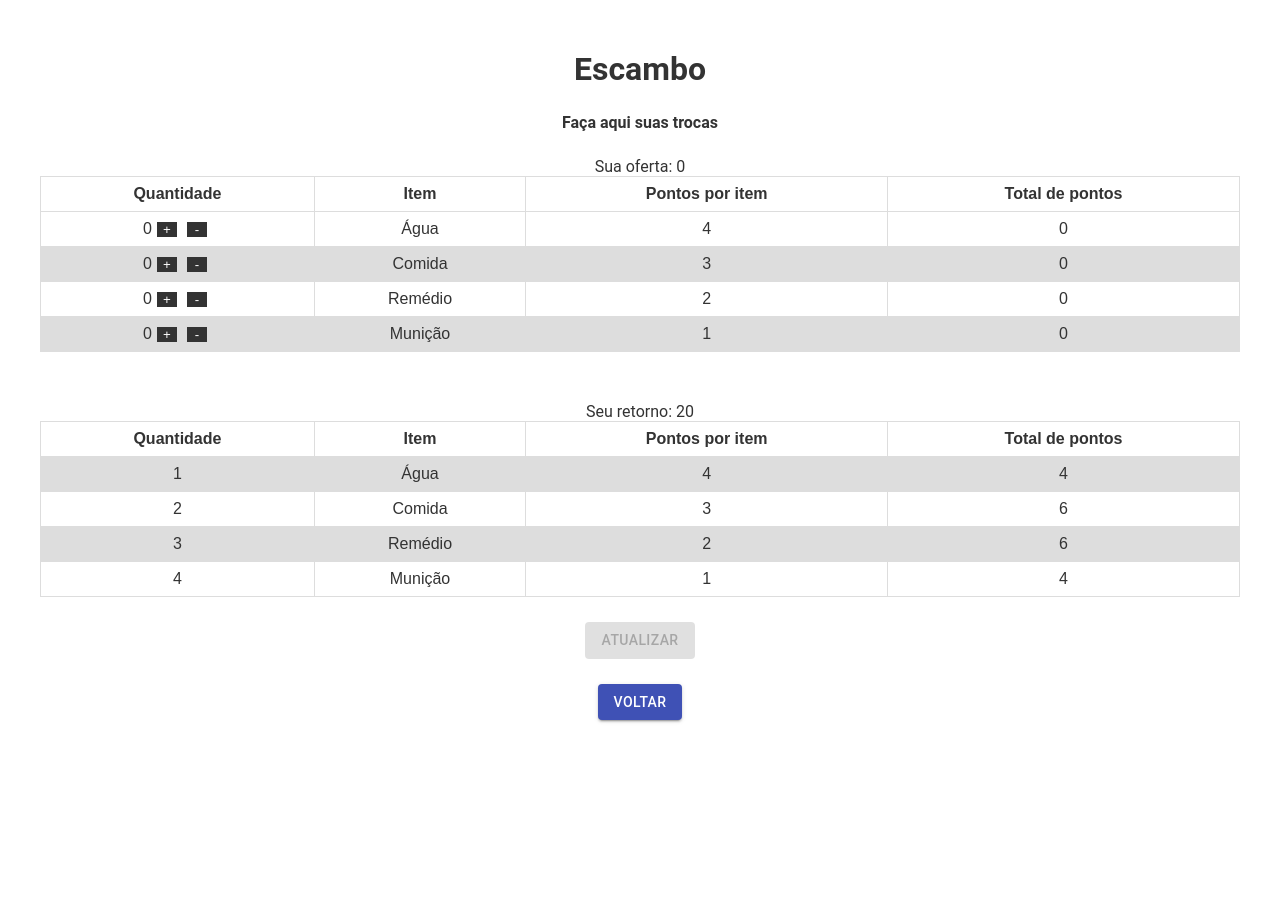
Test: <Trade /> › clears input when updated
The image size is (1280, 900).
Click the button named "aguaIncButton": x=167, y=230 top-left (157, 222), bottom-right (177, 237)
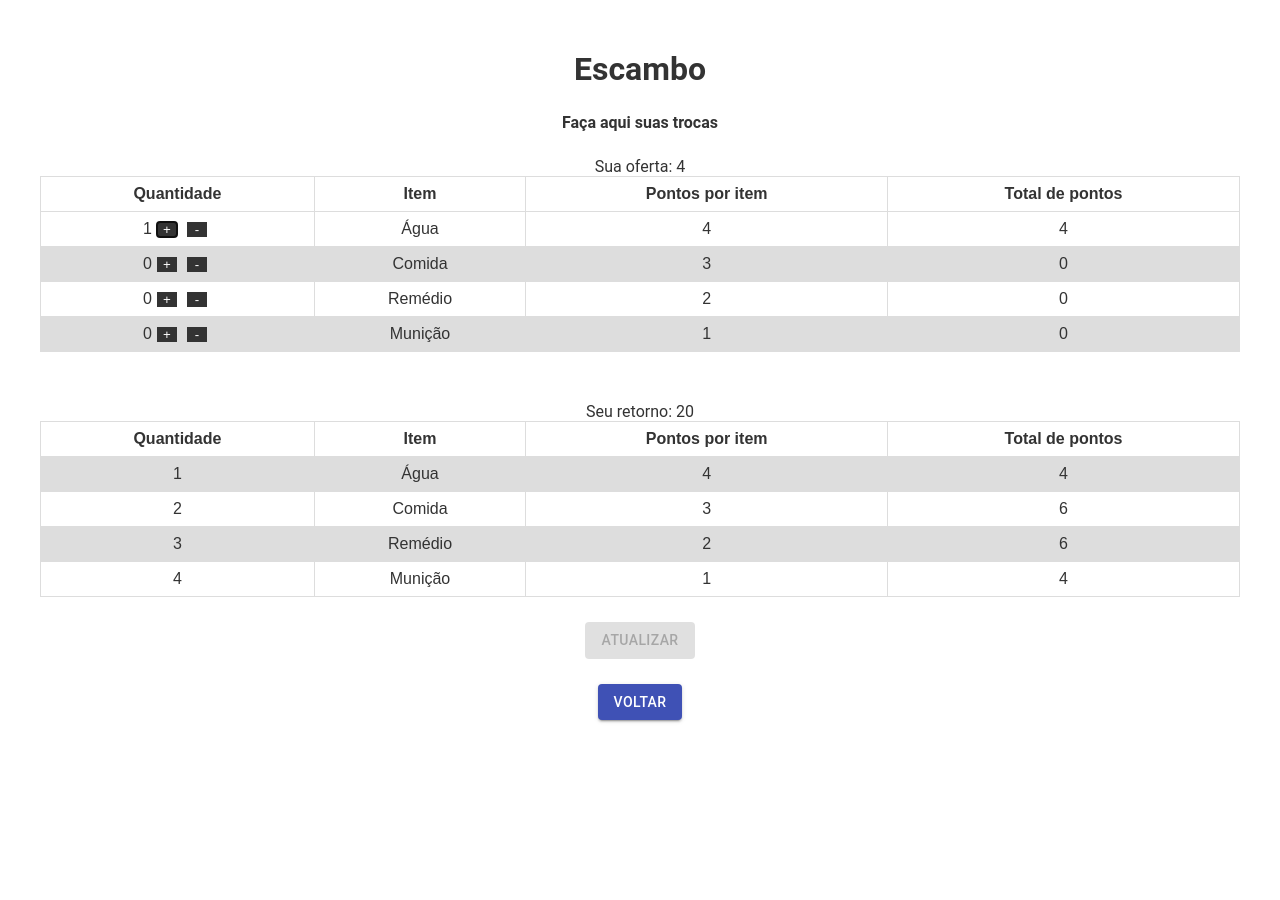
Click the button named "aguaIncButton": x=167, y=230 top-left (157, 222), bottom-right (177, 237)
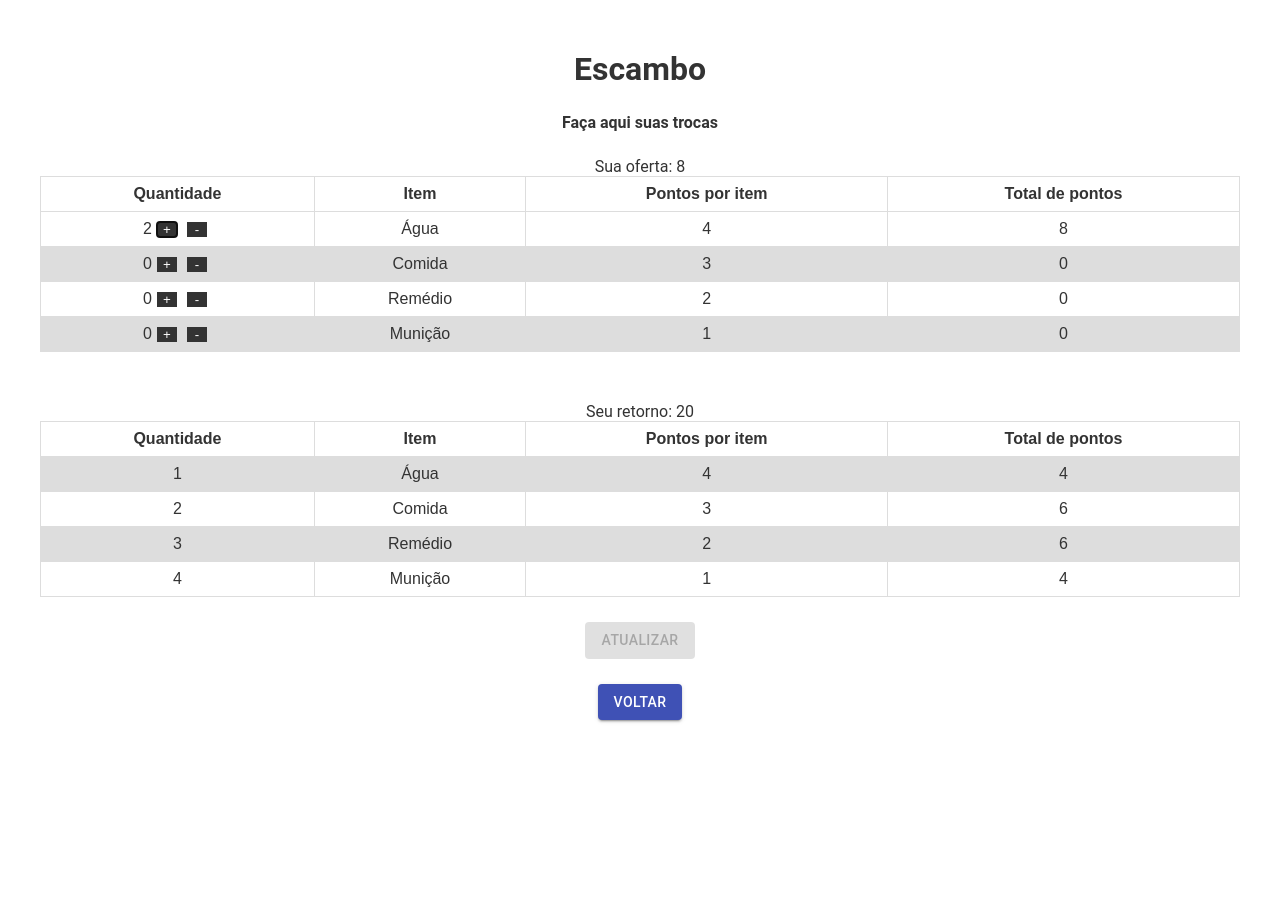
Click the button named "aguaIncButton": x=167, y=230 top-left (157, 222), bottom-right (177, 237)
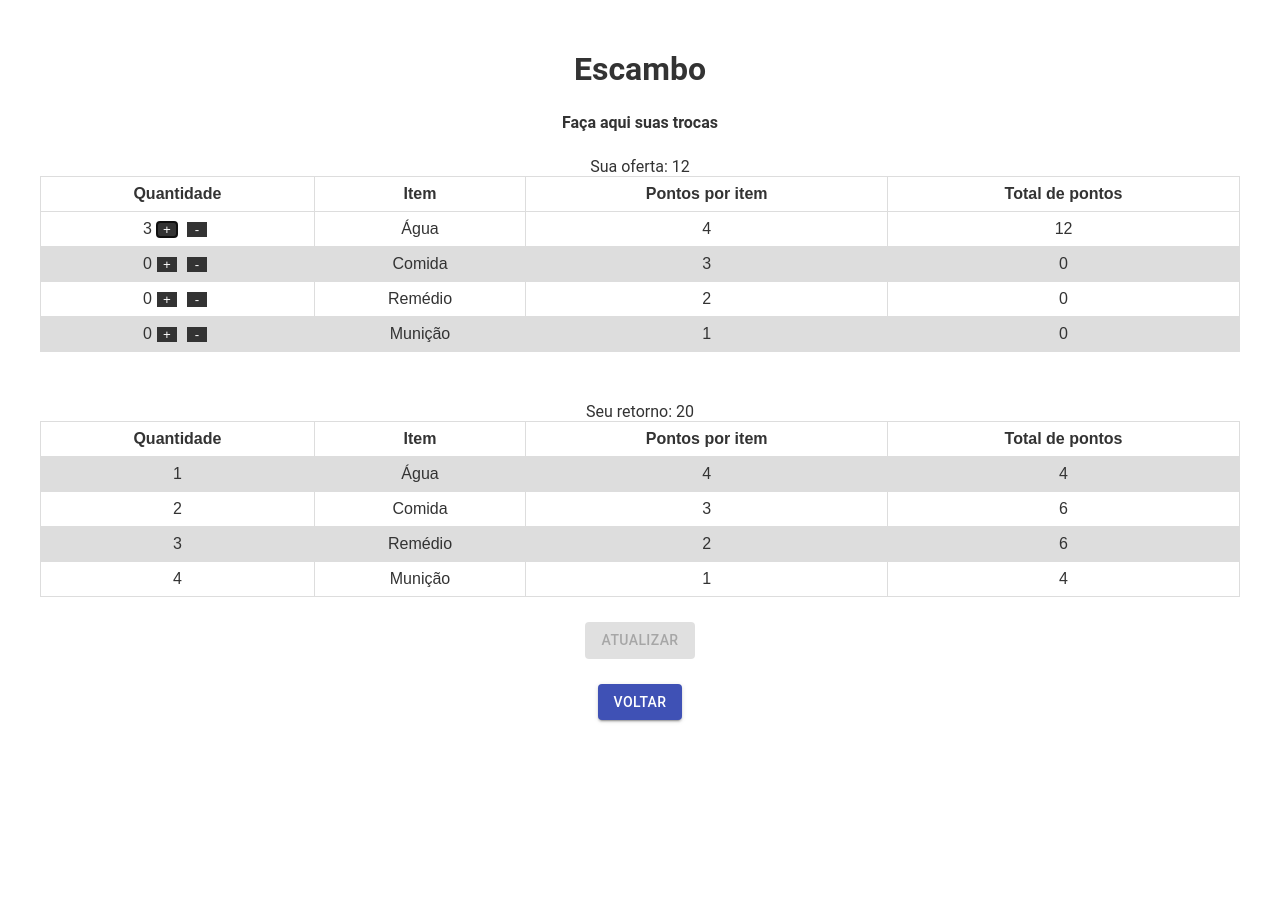
Click the button named "aguaIncButton": x=167, y=230 top-left (157, 222), bottom-right (177, 237)
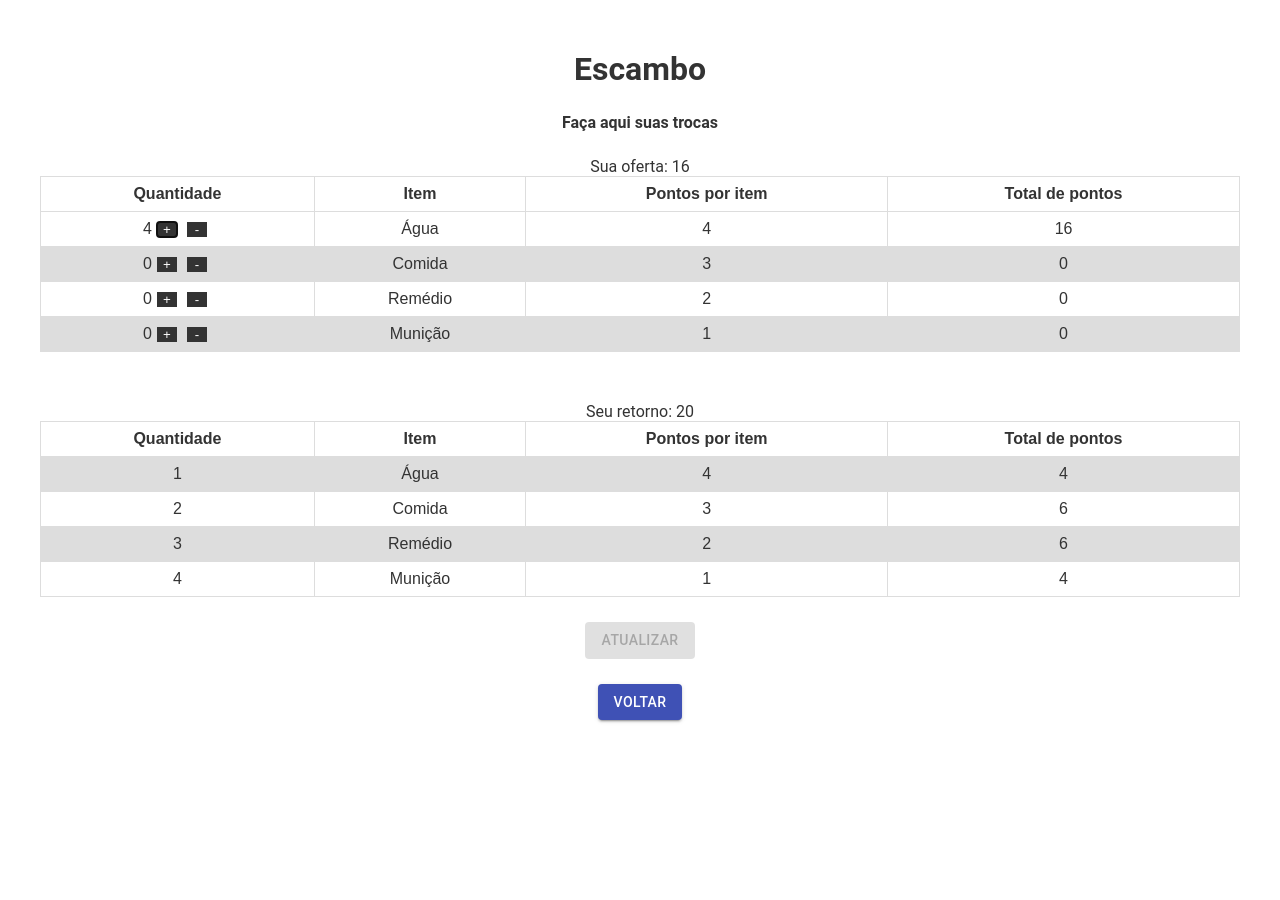
Click the button named "aguaIncButton": x=167, y=230 top-left (157, 222), bottom-right (177, 237)
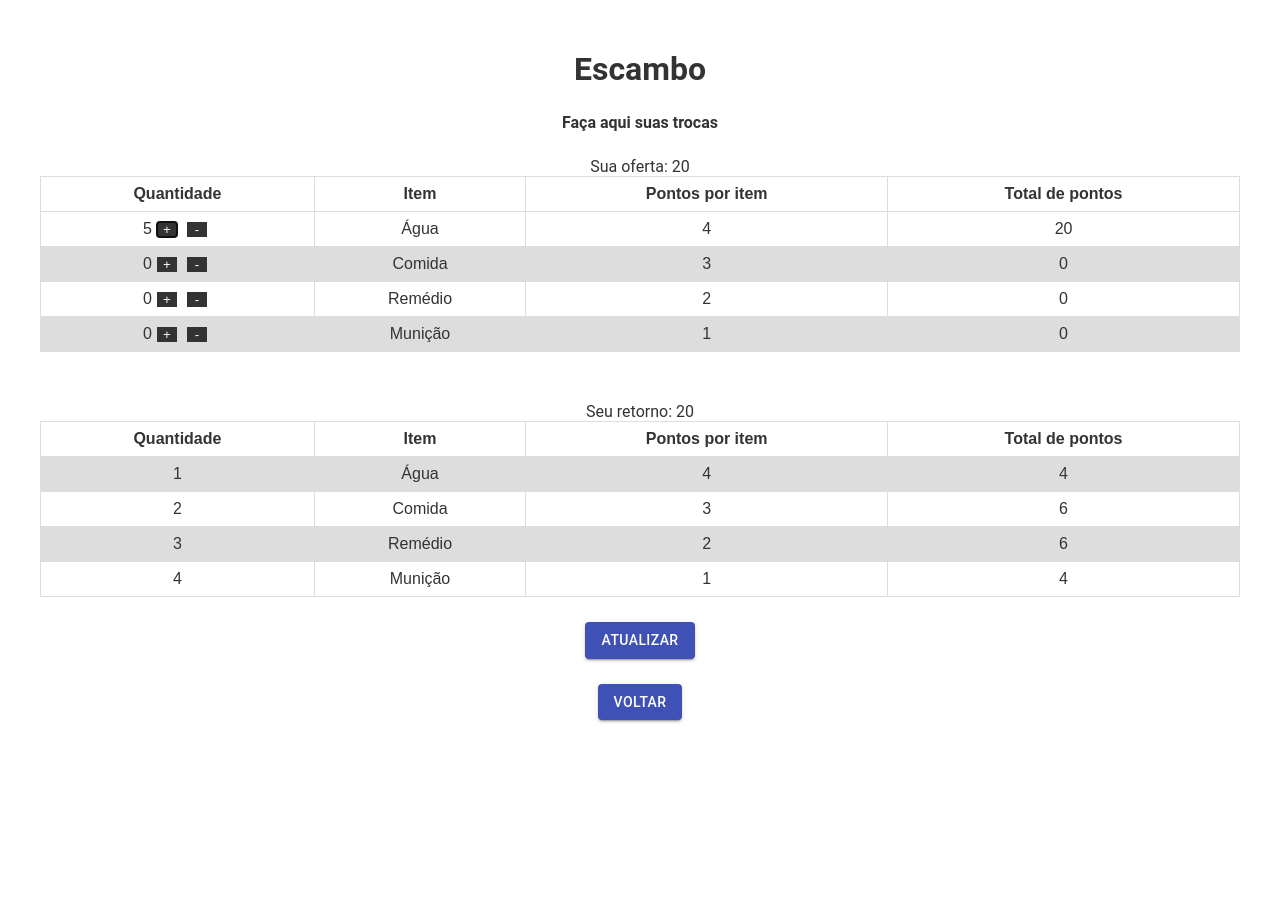
Click the button "Atualizar": x=640, y=640 top-left (586, 622), bottom-right (694, 658)
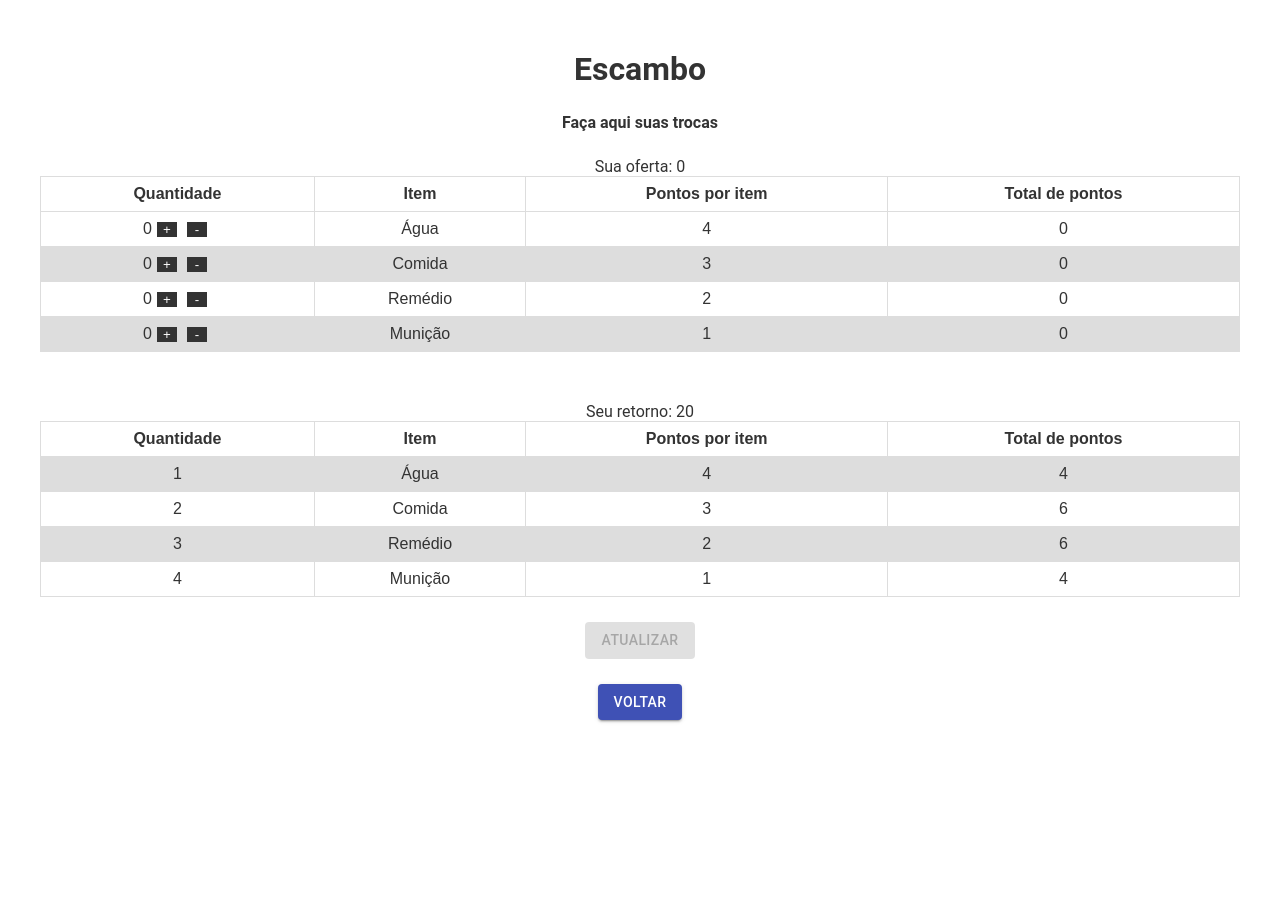
Result: the text "Sua oferta: 0" is shown at top-left (595, 157), bottom-right (685, 176)
